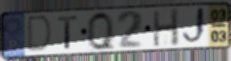2: (116, 9, 145, 51)
D: (25, 15, 54, 54)
H: (151, 8, 180, 48)
J: (181, 6, 208, 48)
Q: (85, 10, 117, 52)
T: (57, 14, 80, 50)
